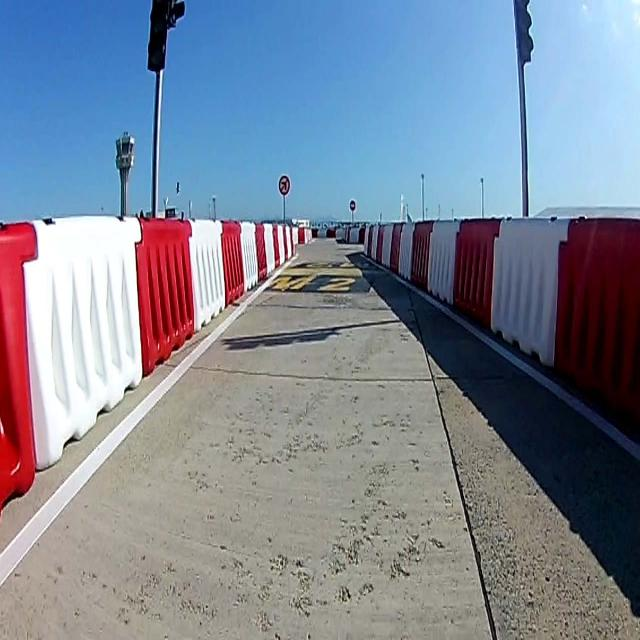soladonulmez: (278, 175, 289, 197)
